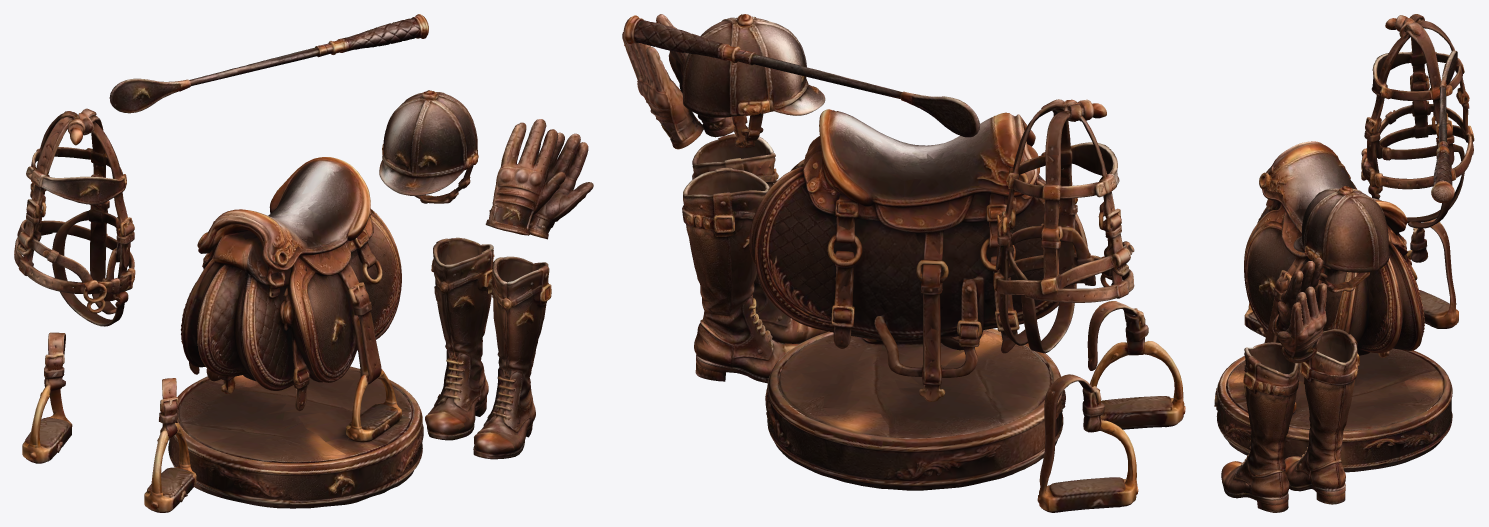
The model's file is riding-tack-low.glb.
3 renders of one model, left to right at view 1: azimuth 30°, elevation 25°; view 2: azimuth 150°, elevation 25°; view 3: azimuth 270°, elevation 25°, orthographic. The views are drawn at different scales.
Visible parts, largest first — view 1: tripo_node_2bb9963e-376f-49f8-8249-73569fa128bf; view 2: tripo_node_2bb9963e-376f-49f8-8249-73569fa128bf; view 3: tripo_node_2bb9963e-376f-49f8-8249-73569fa128bf.
Boxes of the visible parts, left/top/right/bottom form: tripo_node_2bb9963e-376f-49f8-8249-73569fa128bf: left=14, top=14, right=593, bottom=512; tripo_node_2bb9963e-376f-49f8-8249-73569fa128bf: left=622, top=14, right=1185, bottom=512; tripo_node_2bb9963e-376f-49f8-8249-73569fa128bf: left=1214, top=14, right=1474, bottom=512.
Bounding box in the file's own units: 0.9804 × 0.665 × 0.478.
Materials: 1 (1 with a texture image).
